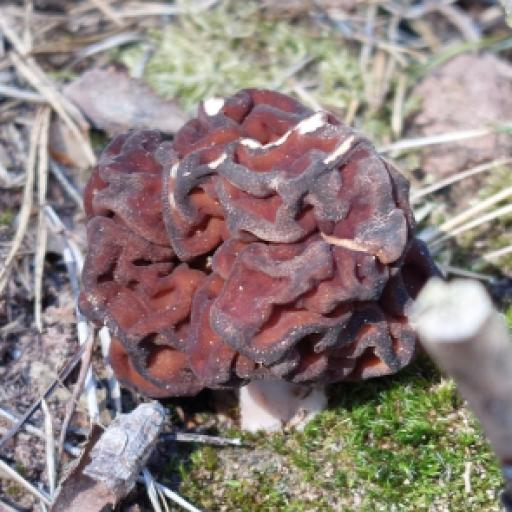mushroom: (56, 79, 428, 454)
